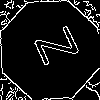Z: (25, 25, 80, 72)
